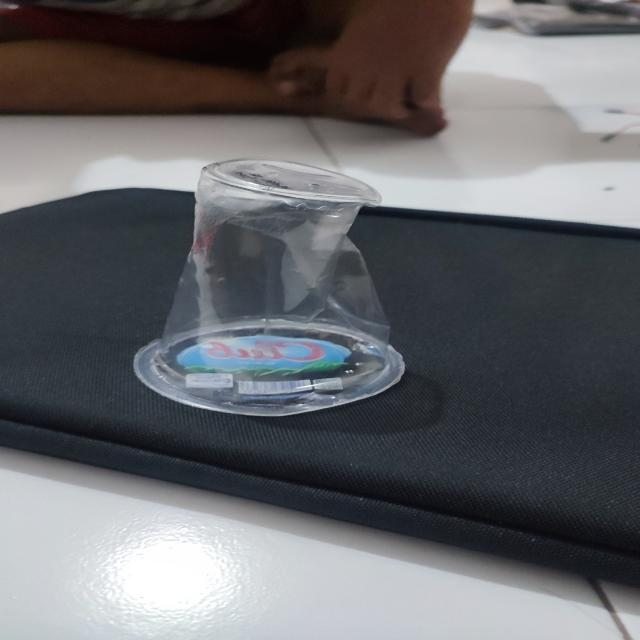air-gelas-rusak: (104, 142, 428, 422)
